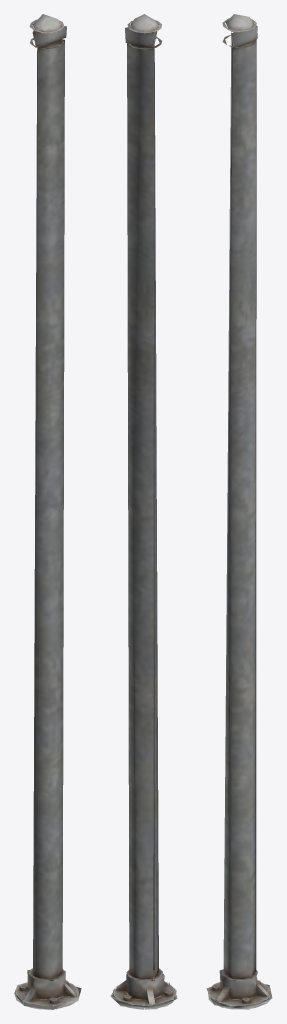
File: ph_fence_post.glb
3 views of the same model, side by side, from view 1: azimuth 30°, elevation 25°; view 2: azimuth 210°, elevation 25°; view 3: azimuth 270°, elevation 25° (orthographic).
Parts seen in each view (by area): view 1: modular_chainlink_fence_post; view 2: modular_chainlink_fence_post; view 3: modular_chainlink_fence_post.
Boxes of the visible parts, box(x1,y1,x2,y2) form: modular_chainlink_fence_post: box(14, 14, 81, 1009); modular_chainlink_fence_post: box(110, 14, 177, 1009); modular_chainlink_fence_post: box(206, 14, 272, 1009).
Bounding box in the file's own units: 0.1568 × 2.52 × 0.1542.
1 material, 1 textured.
